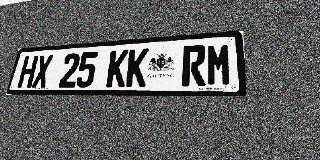2: (59, 53, 81, 88)
5: (75, 51, 98, 87)
H: (17, 55, 39, 88)
K: (125, 48, 149, 87), (106, 49, 129, 87)
M: (206, 43, 232, 86)
R: (182, 44, 206, 86)
X: (31, 54, 54, 88)
